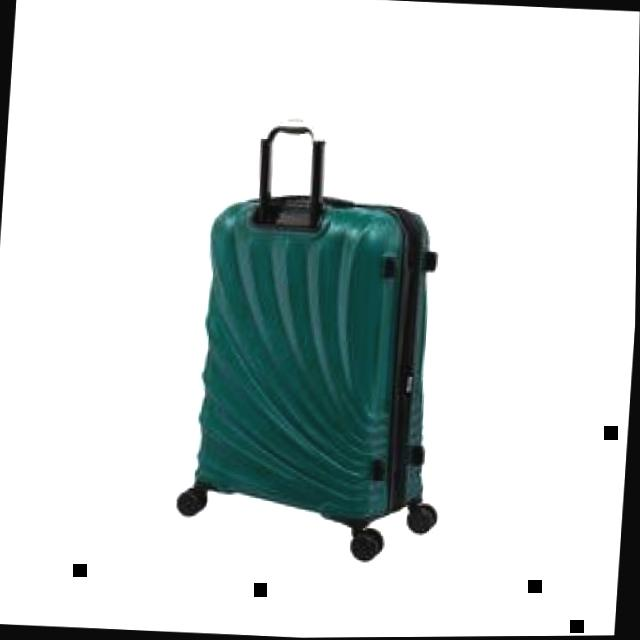luggage: (177, 181, 450, 535)
